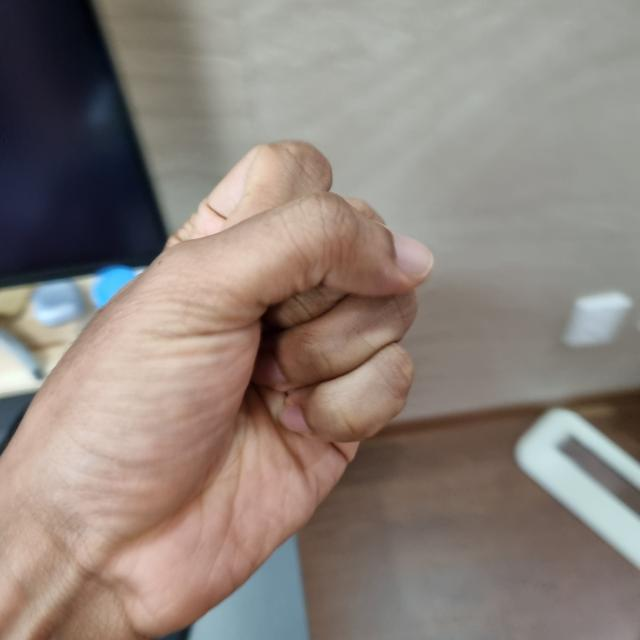Rock: (0, 192, 428, 637)
